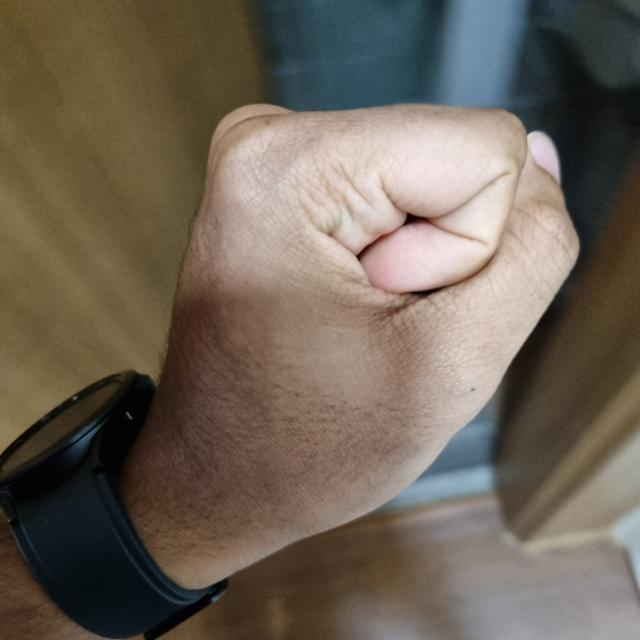Rock: (147, 106, 578, 539)
